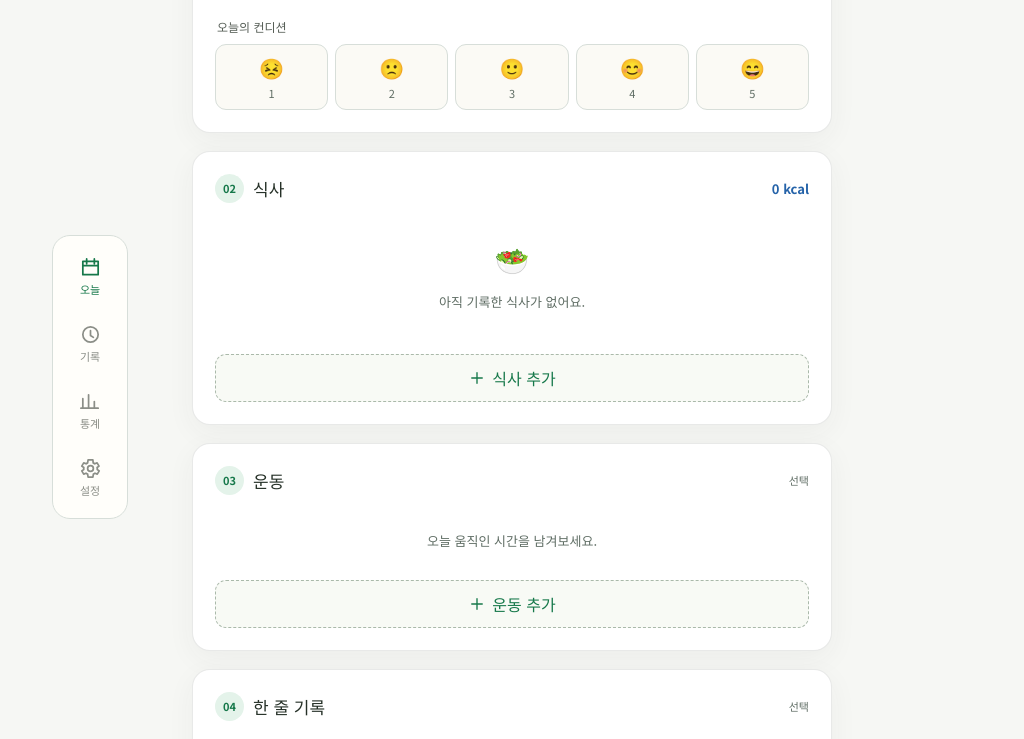
Test: App › shows an accessible validation error for an empty meal name
(page scrolled)
Click the button "식사 추가".
click(512, 378)  # box [215,354,809,402]
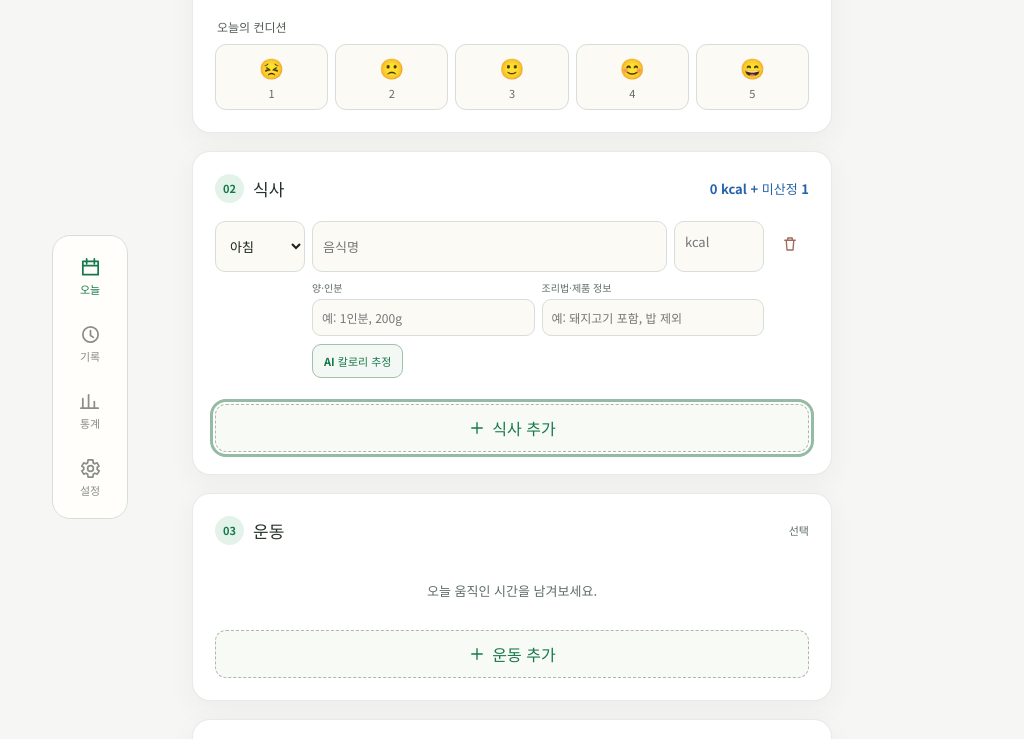
Type "350" into the number field named "식사 1 칼로리".
click(719, 246); type("350")  # box [674,221,764,272]
(page scrolled)
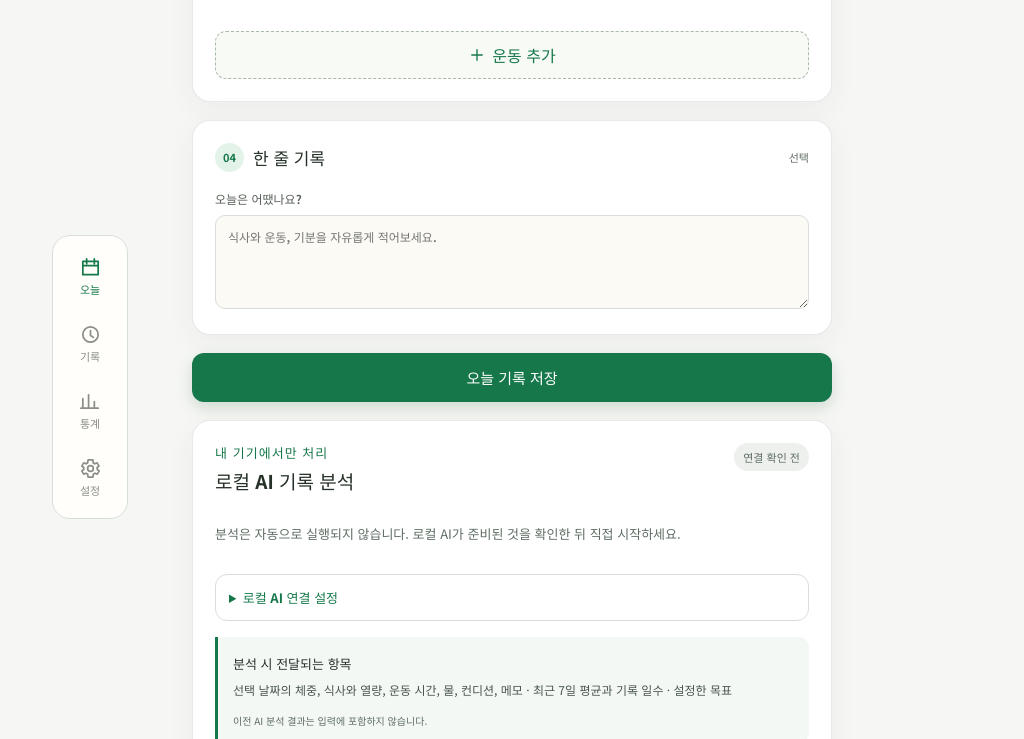
Click the button "오늘 기록 저장".
click(512, 377)  # box [192,353,832,402]
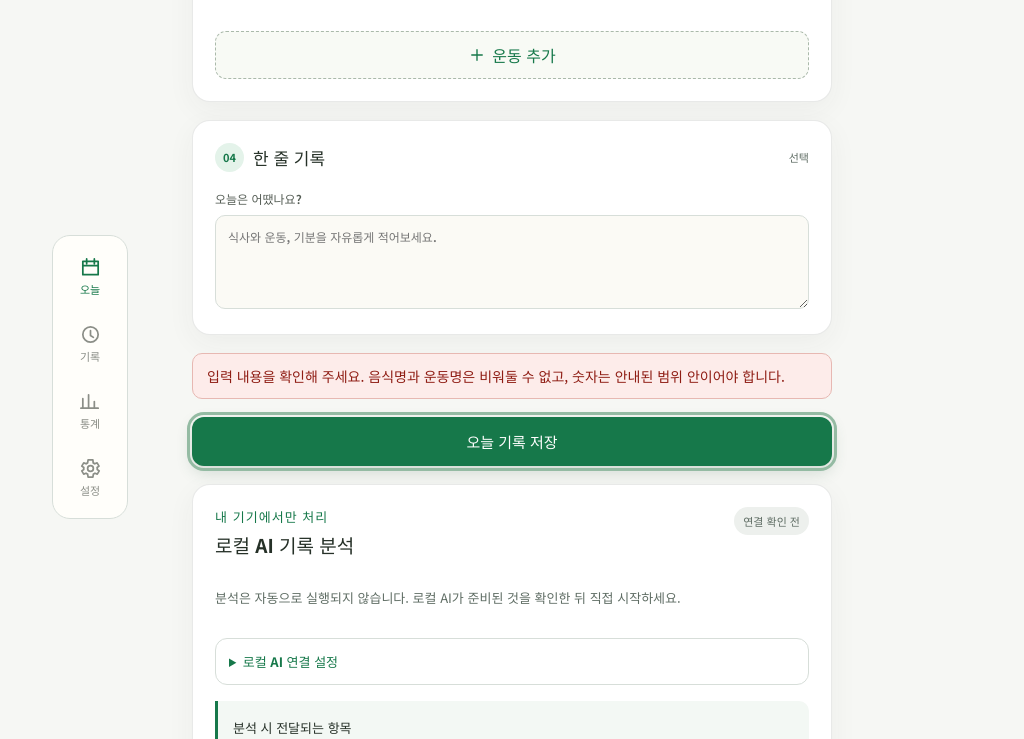
expect the message "입력 내용을 확인해 주세요. 음식명과 운동명은 비워둘 수 없고, 숫자는 안내된 범위 안이어야 합니다." is shown: met, box [192,353,832,399]
